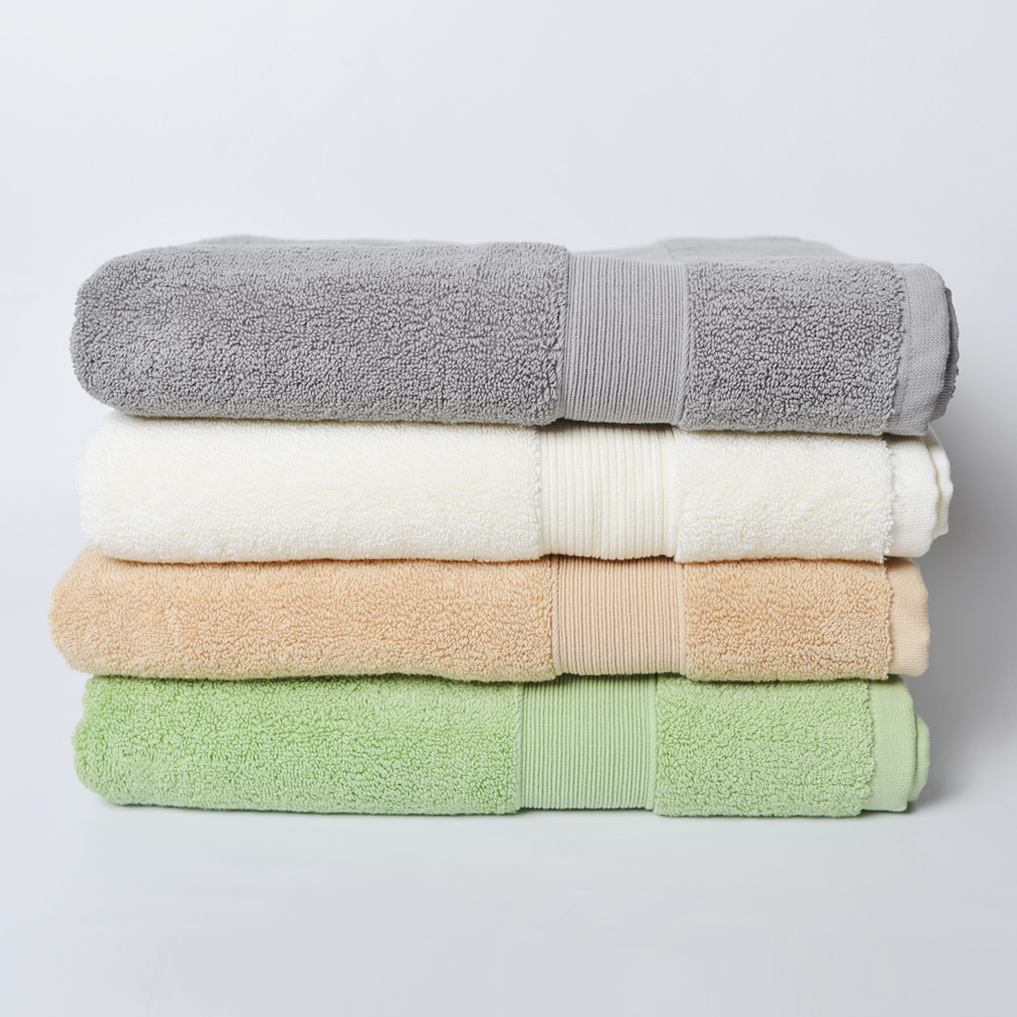flexible: (47, 214, 965, 821)
